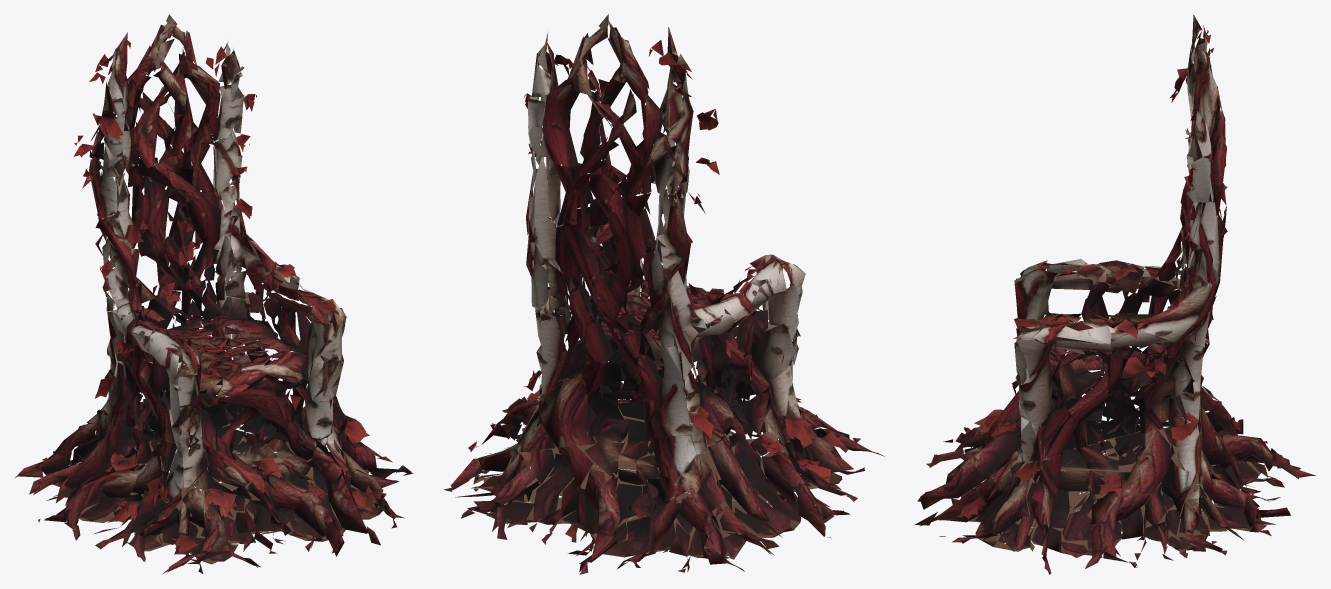
File: RootThrone.fbx
3 renders of one model, left to right at view 1: azimuth 30°, elevation 25°; view 2: azimuth 150°, elevation 25°; view 3: azimuth 270°, elevation 25°, orthographic. The views are drawn at different scales.
Parts seen in each view (by area): view 1: RootThrone_Body; view 2: RootThrone_Body; view 3: RootThrone_Body.
Part boxes in pixels (<box>): RootThrone_Body: <box>14,14,413,574</box>; RootThrone_Body: <box>444,14,884,574</box>; RootThrone_Body: <box>914,14,1316,574</box>.
Size of the model in its own units: 0.772 by 1 by 0.7904.
1 material, 1 textured.
